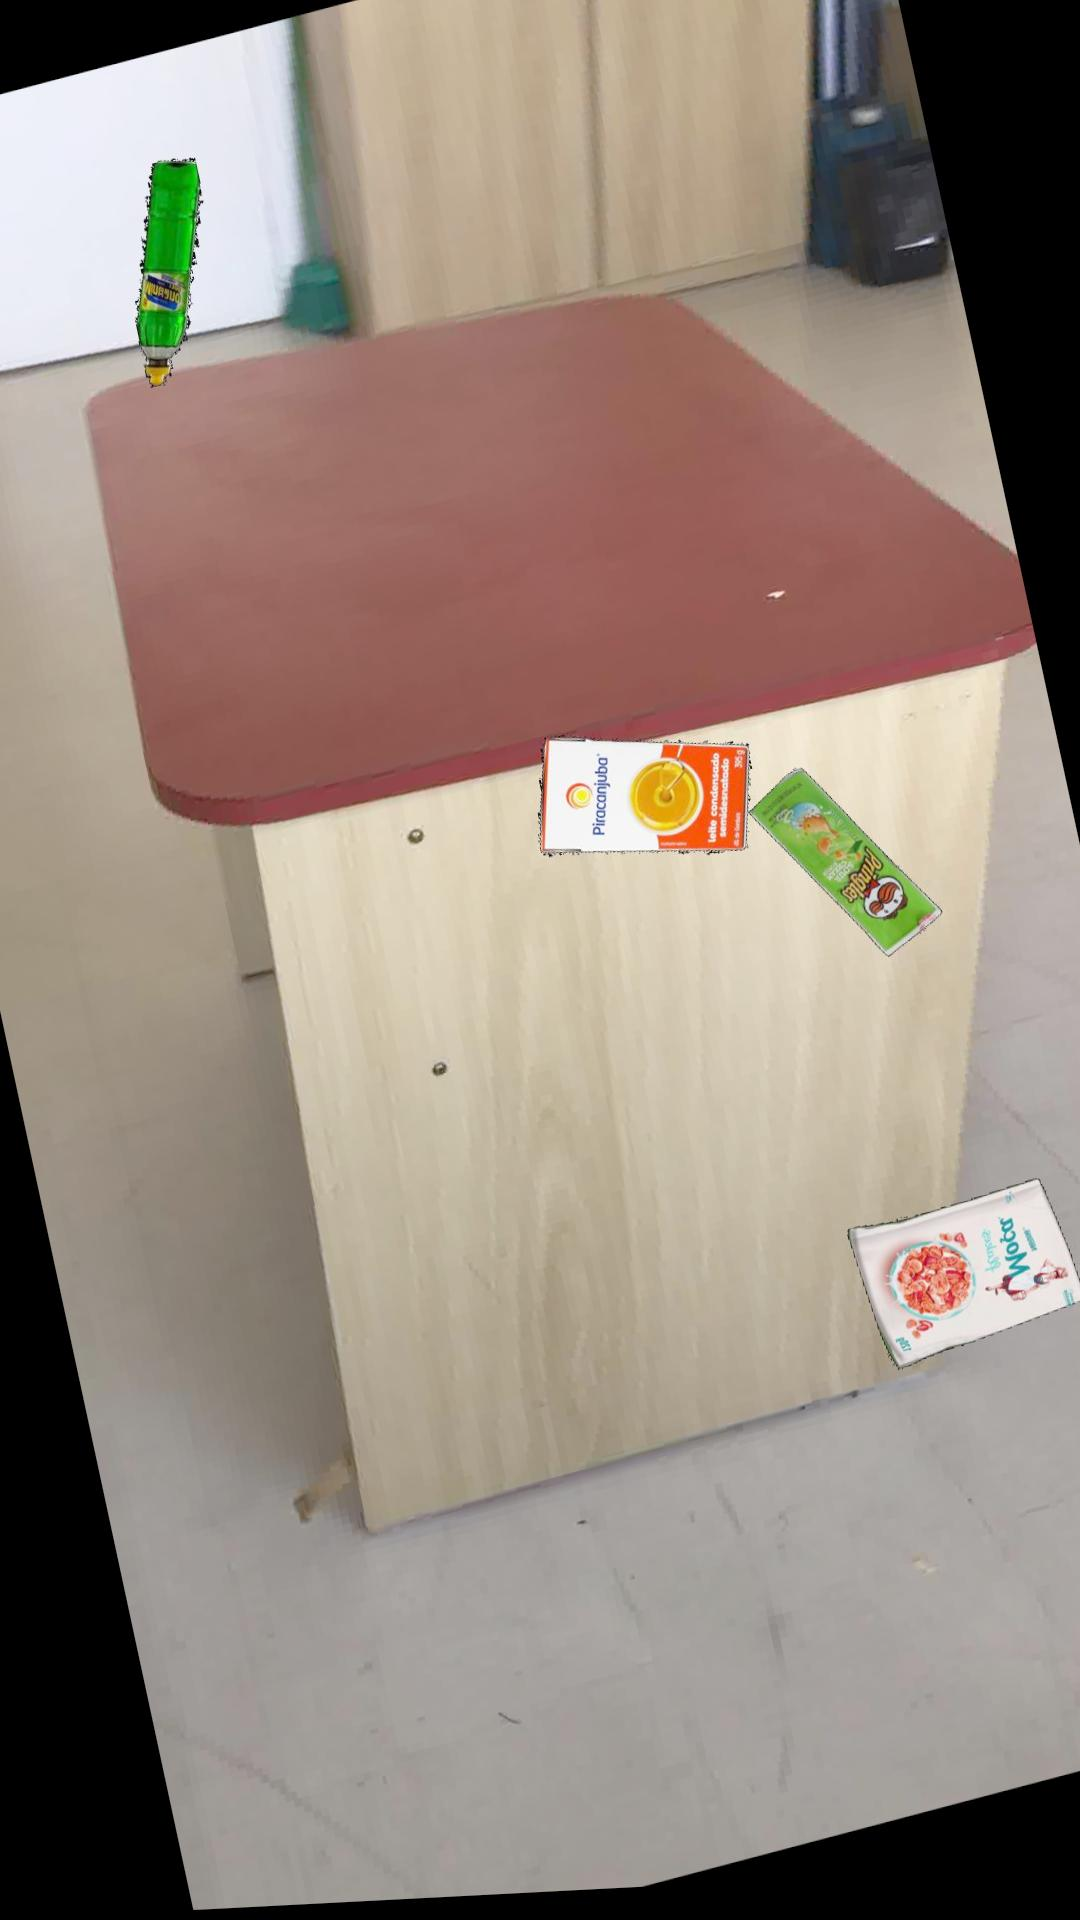cleaner: (135, 157, 203, 386)
corn flakes: (847, 1187, 1080, 1377)
pringles: (749, 774, 942, 964)
